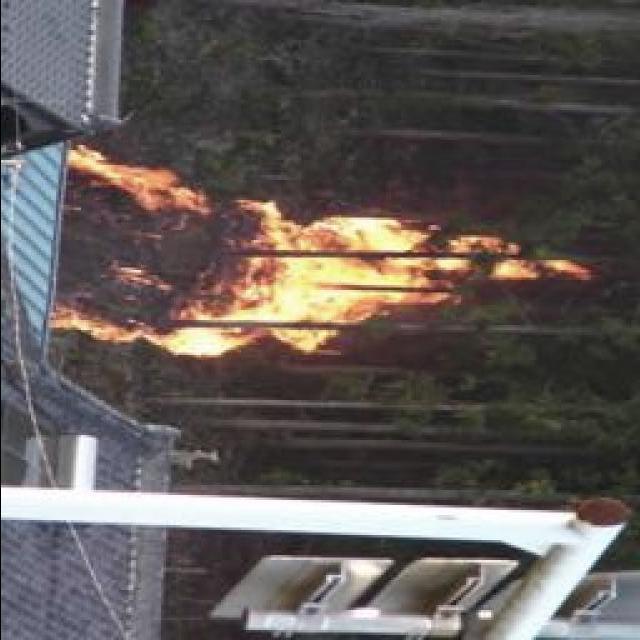Fire: (52, 156, 594, 356)
